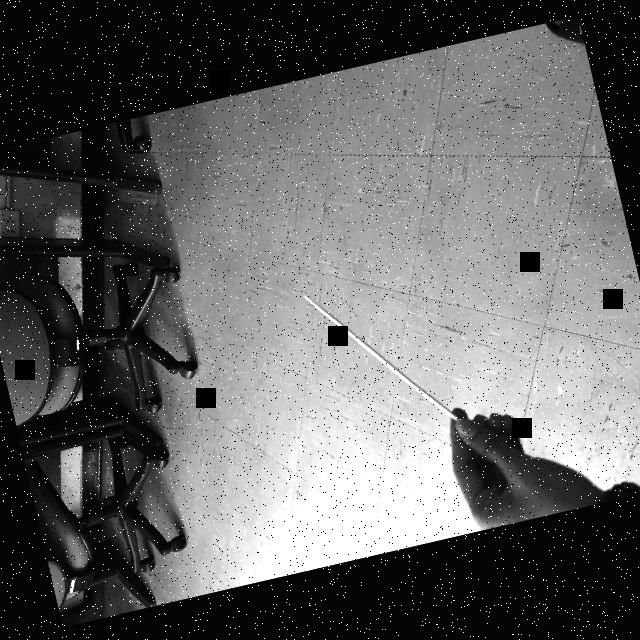stick: (294, 245, 482, 466)
